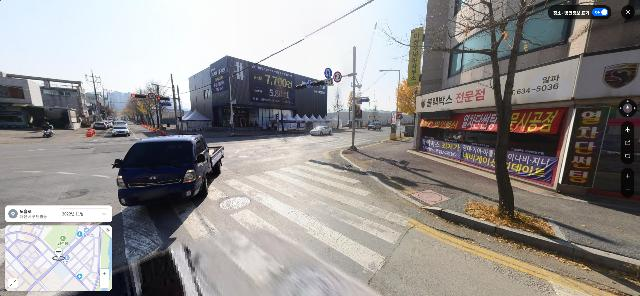ginkgo: (394, 75, 417, 137)
other: (376, 0, 563, 220), (135, 81, 166, 130), (268, 80, 294, 132)
